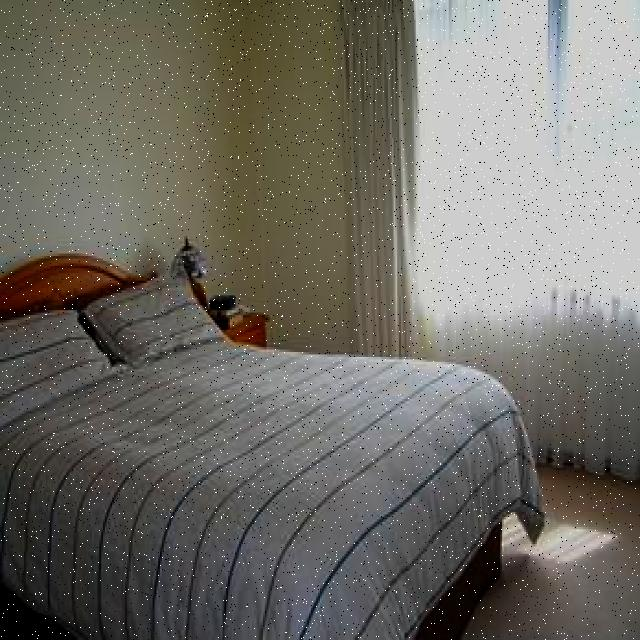bed: (0, 279, 528, 640)
